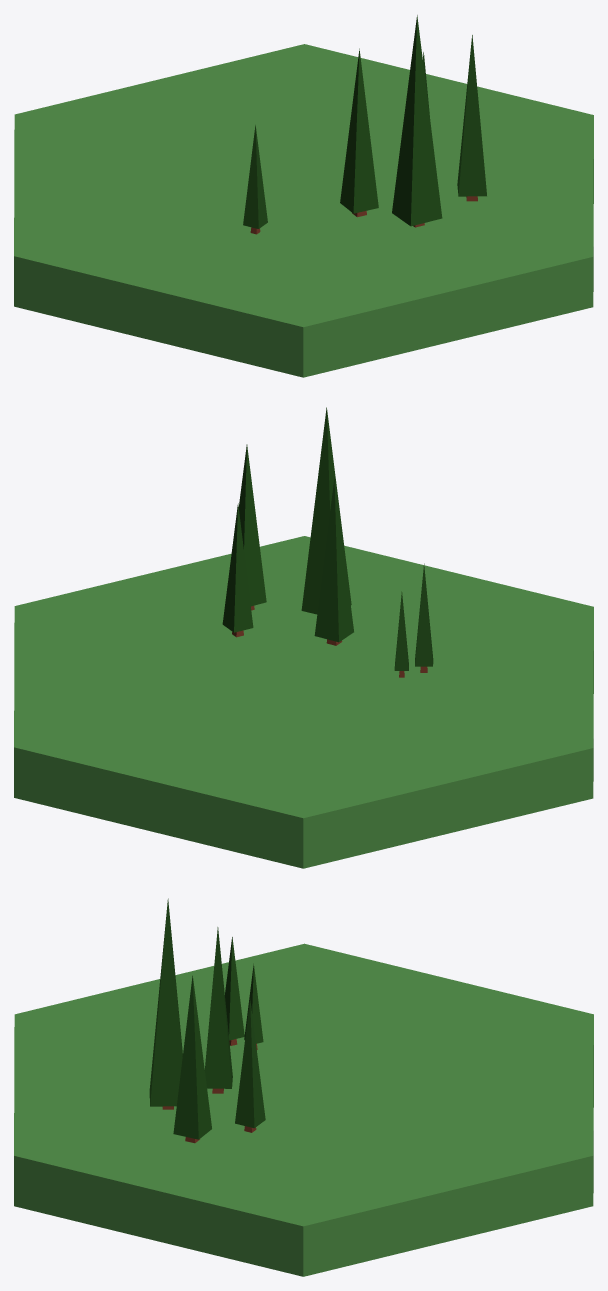
File: Planet_Green_Hexagon (1).fbx
3 views of the same model, one above another, from view 1: azimuth 30°, elevation 25°; view 2: azimuth 150°, elevation 25°; view 3: azimuth 270°, elevation 25° (orthographic).
Visible parts, largest first — view 1: polySurface5, pCube1, pCube5, pCube4, pCube11; view 2: polySurface5, pCube5, pCube1, pCube4, pCube8, pCube11, pCube9; view 3: polySurface5, pCube1, pCube4, pCube5, pCube8, pCube11, pCube9.
Boxes of the visible parts, <box> form: polySurface5: <box>14,44,593,377</box>; pCube1: <box>392,15,442,226</box>; pCube5: <box>340,48,378,213</box>; pCube4: <box>457,35,486,196</box>; pCube11: <box>243,125,267,228</box>; polySurface5: <box>14,536,593,868</box>; pCube5: <box>314,477,353,642</box>; pCube1: <box>301,407,351,614</box>; pCube4: <box>238,444,266,606</box>; pCube8: <box>222,503,253,632</box>; pCube11: <box>415,563,433,666</box>; pCube9: <box>394,591,408,670</box>; polySurface5: <box>14,943,593,1276</box>; pCube1: <box>149,898,182,1106</box>; pCube4: <box>173,975,211,1139</box>; pCube5: <box>204,927,232,1088</box>; pCube8: <box>235,998,265,1128</box>; pCube11: <box>225,937,244,1040</box>; pCube9: <box>244,963,263,1043</box>.
Bounding box in the file's own units: 6.28 × 2.7 × 5.44.
